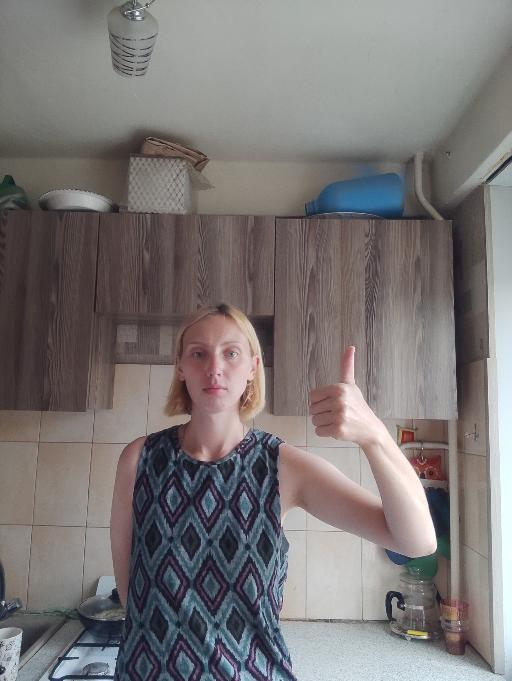like: (307, 343, 374, 444)
